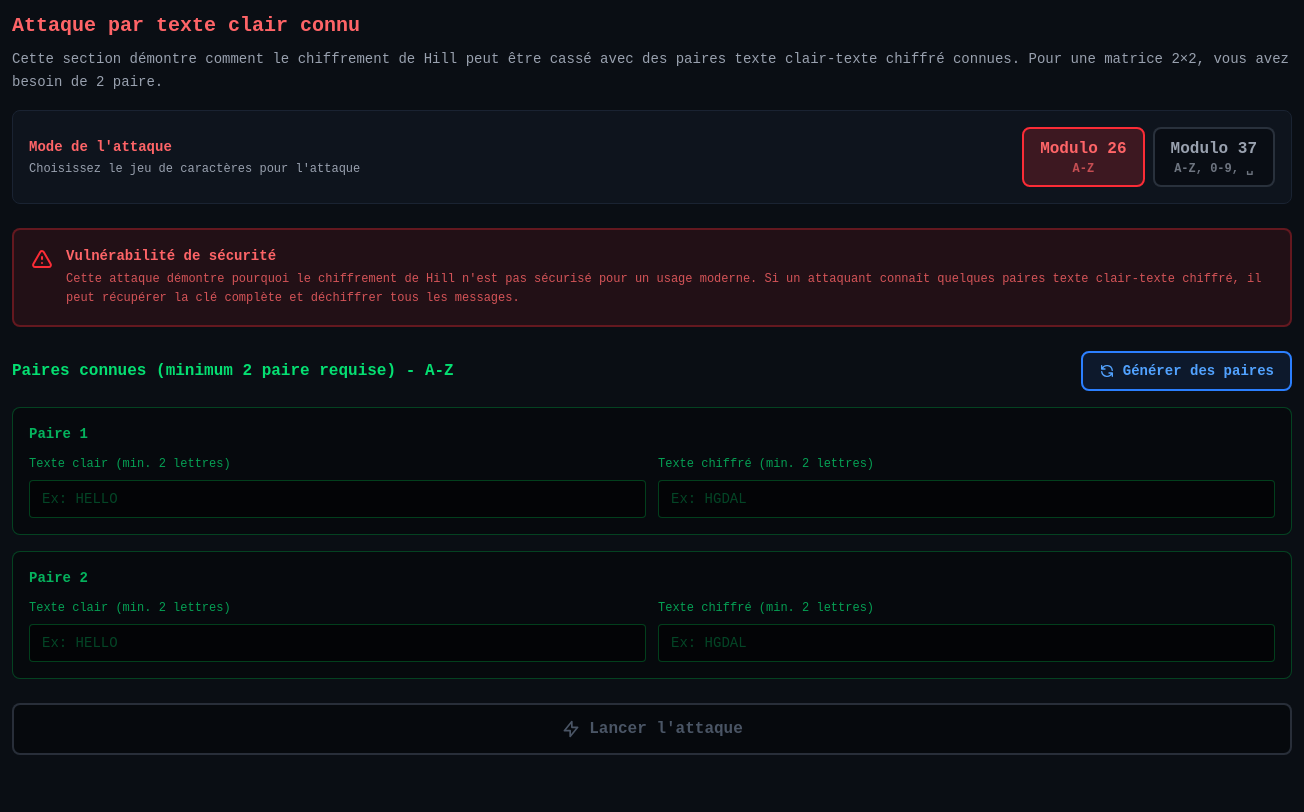
AttackSection › enables attack button when all pairs have sufficient text
This screenshot has width=1304, height=812.
Note: Fill in both pairs with sufficient text
Step 1. Type "HE" into the 1st field with placeholder "Ex: HELLO" → {"x": 338, "y": 498}, box [29,480,646,518]
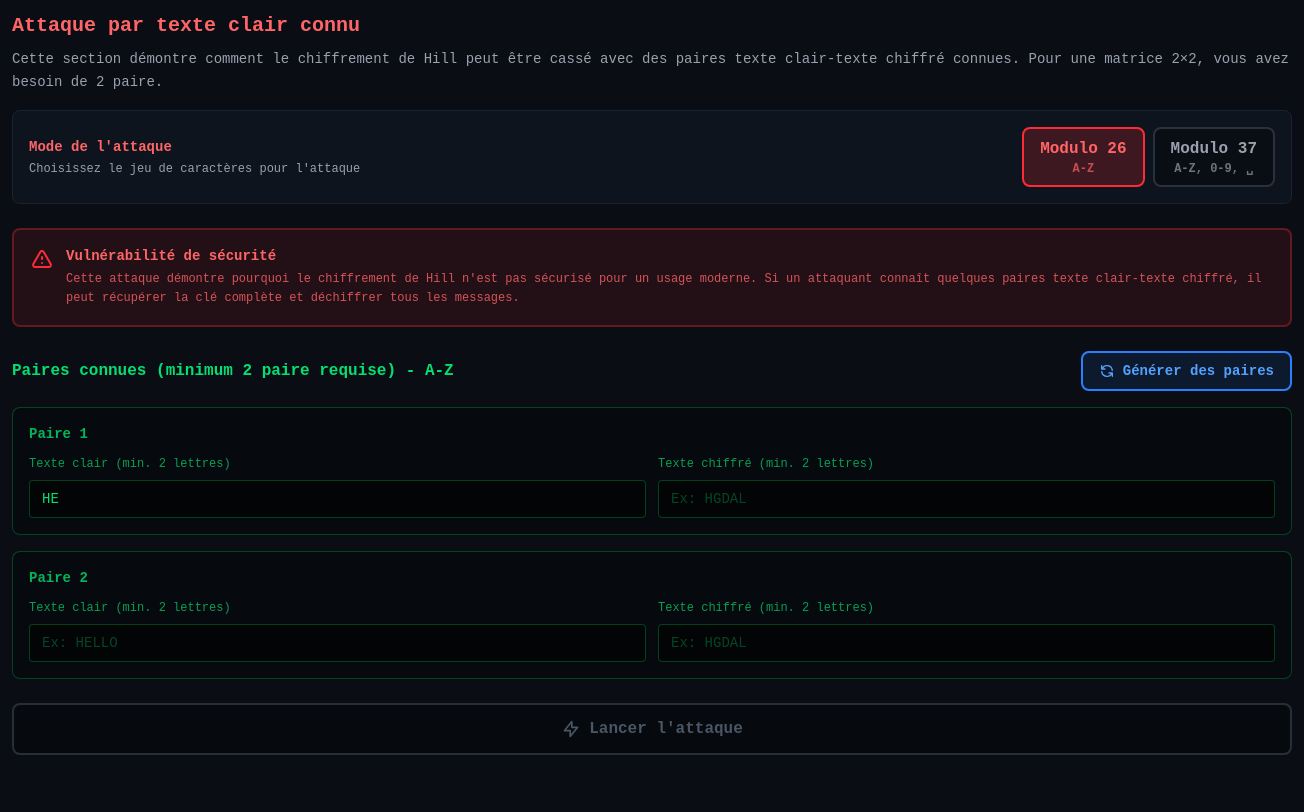
Step 2. Type "AB" into the 1st field with placeholder "Ex: HGDAL" → {"x": 966, "y": 498}, box [658,480,1275,518]
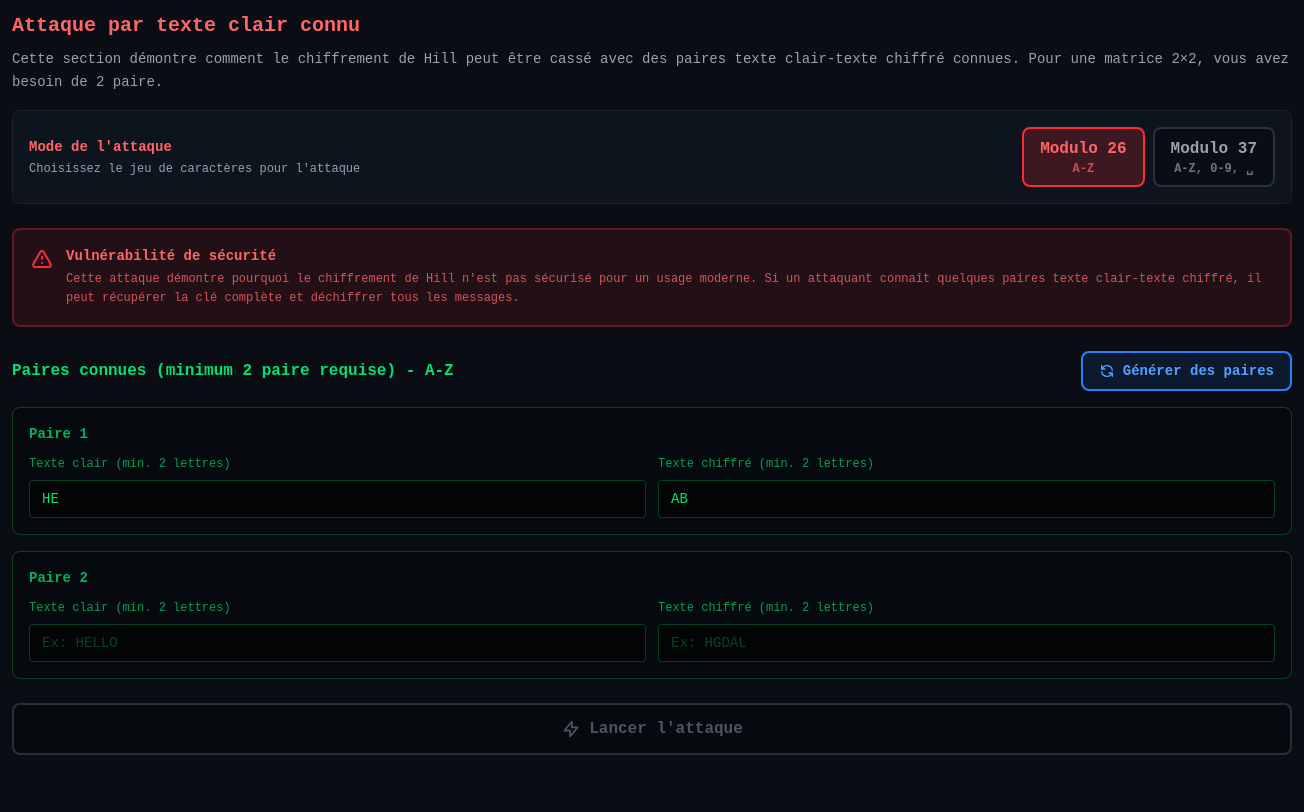
Step 3. Type "LO" into the 2nd field with placeholder "Ex: HELLO" → {"x": 338, "y": 642}, box [29,624,646,662]
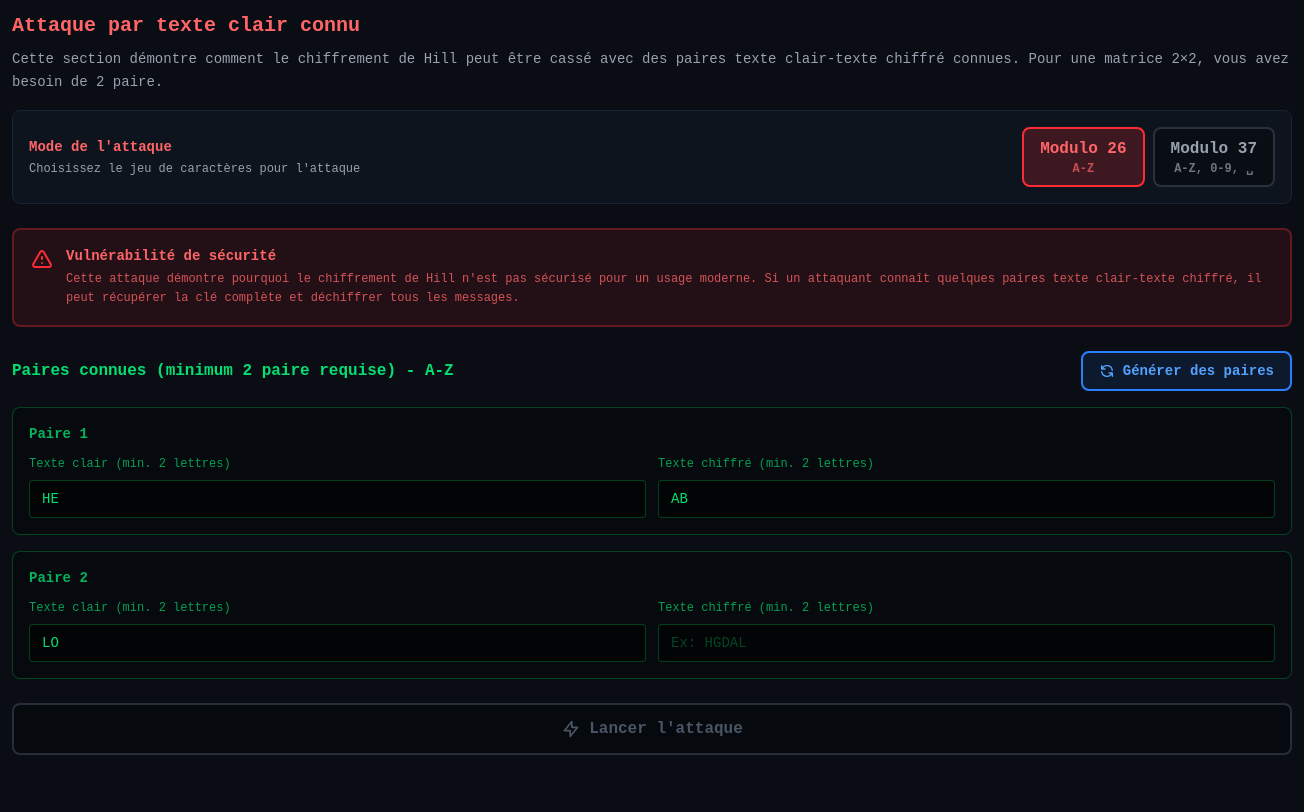
Step 4. Type "CD" into the 2nd field with placeholder "Ex: HGDAL" → {"x": 966, "y": 642}, box [658,624,1275,662]
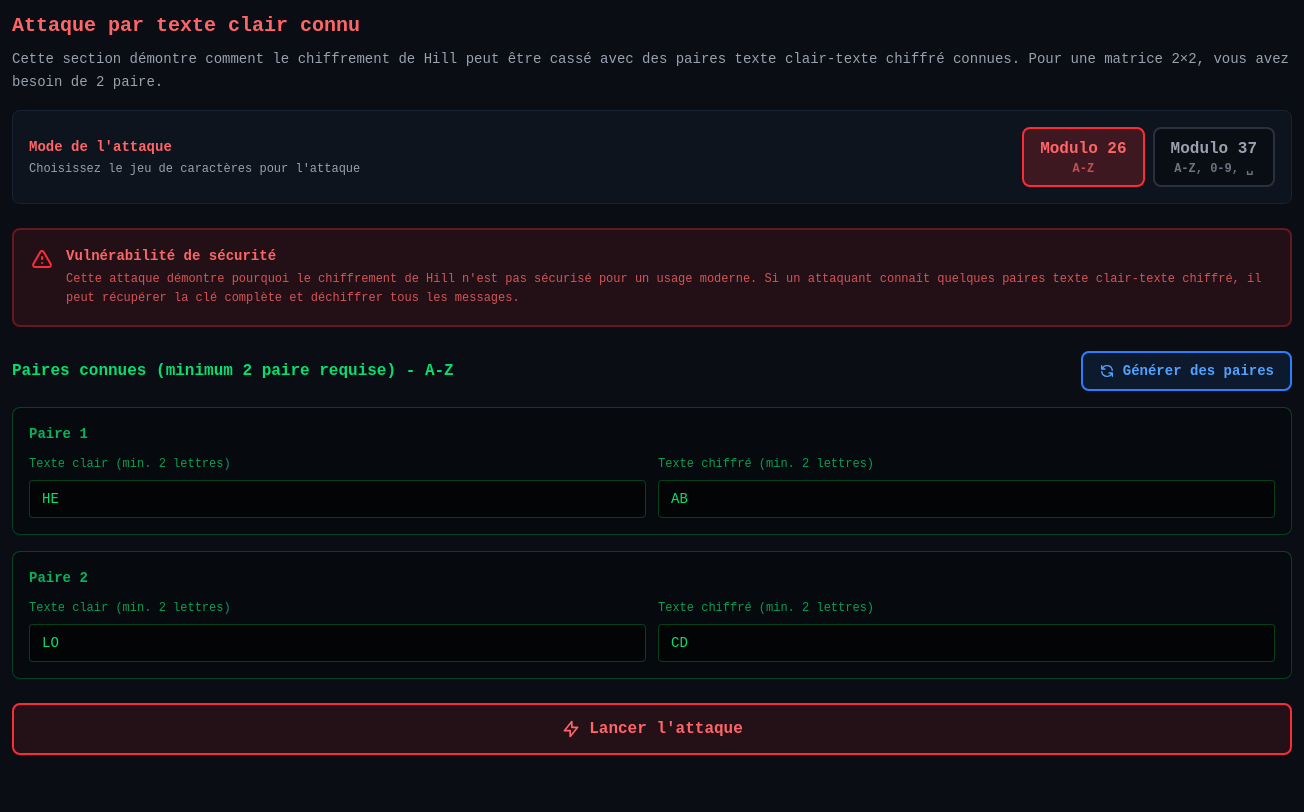
Expected: the button "Lancer l'attaque" is enabled, [12,702,1292,754]
